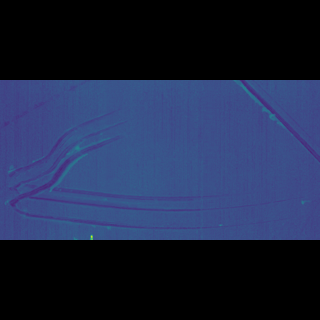Loch: (6, 132, 309, 196), (225, 119, 318, 163), (1, 111, 94, 146)
